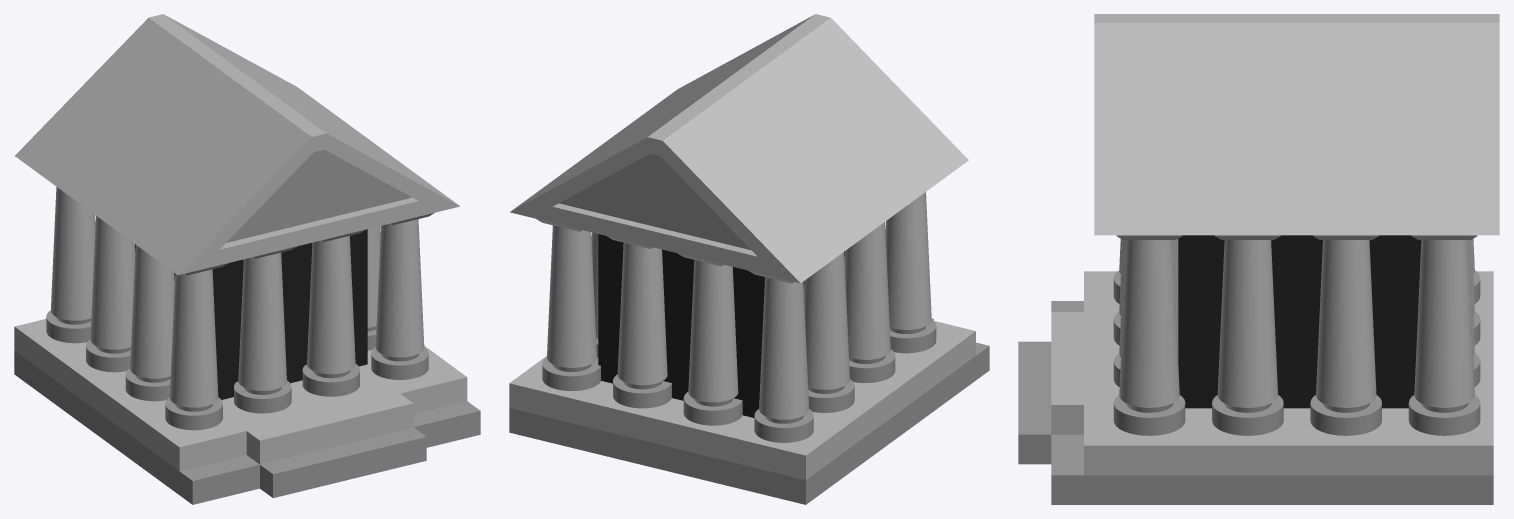
Rendered from classical_building.gltf.
3 views of the same model, side by side, from view 1: azimuth 30°, elevation 25°; view 2: azimuth 150°, elevation 25°; view 3: azimuth 270°, elevation 25° (orthographic). The views are drawn at different scales.
Visible parts, largest first — view 1: Cube.470; view 2: Cube.470; view 3: Cube.470.
Boxes of the visible parts, x1,y1,x2,y2 form: Cube.470: (14, 14, 480, 504); Cube.470: (509, 14, 989, 504); Cube.470: (1018, 14, 1499, 504).
Bounding box in the file's own units: 1.94 × 2.07 × 2.27.
Materials: 1 (1 with a texture image).
